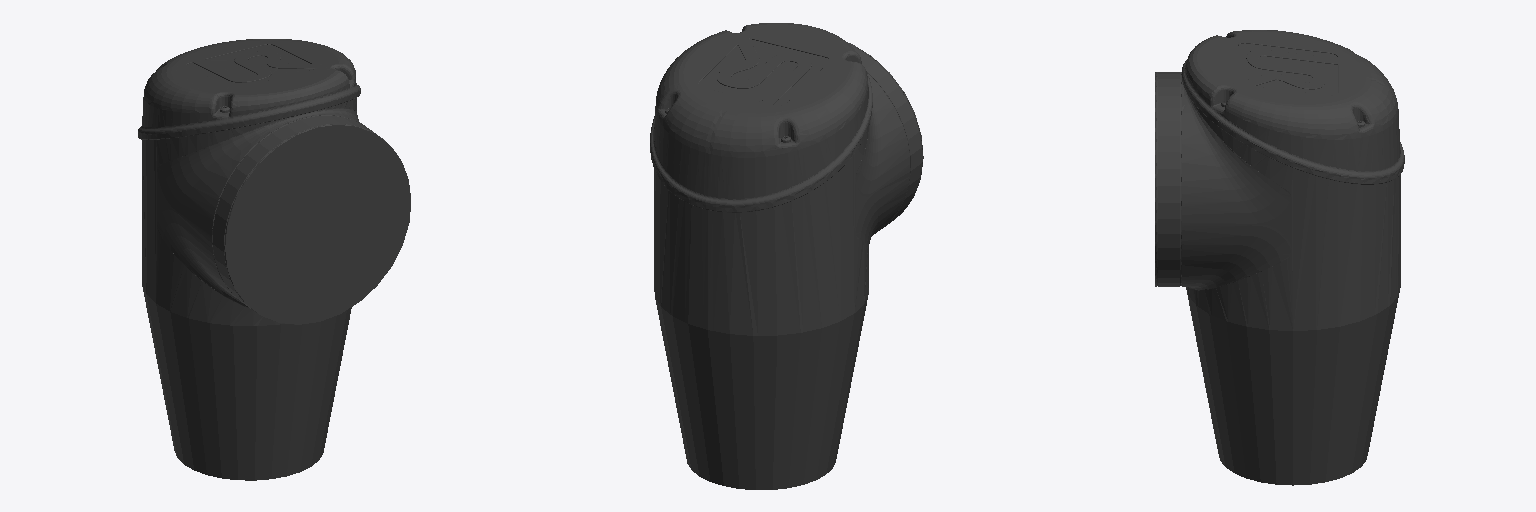
The model's file is armL link1.002.obj.
3 renders of one model, left to right at view 1: azimuth 30°, elevation 25°; view 2: azimuth 150°, elevation 25°; view 3: azimuth 270°, elevation 25°, orthographic.
Parts seen in each view (by area): view 1: visual_0_armR_link1_armL_link1.002; view 2: visual_0_armR_link1_armL_link1.002; view 3: visual_0_armR_link1_armL_link1.002.
Part boxes in pixels (bbox=[...]): visual_0_armR_link1_armL_link1.002: bbox=[138, 39, 410, 480]; visual_0_armR_link1_armL_link1.002: bbox=[650, 23, 923, 489]; visual_0_armR_link1_armL_link1.002: bbox=[1155, 30, 1404, 485].
Size of the model in its own units: 0.06 by 0.1177 by 0.0672.